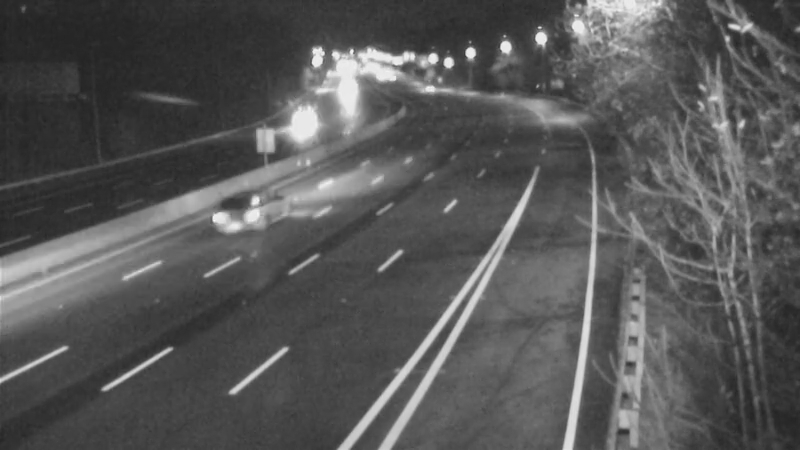vehicle: (216, 158, 296, 238), (401, 64, 451, 114), (270, 98, 320, 148), (325, 71, 375, 121)
